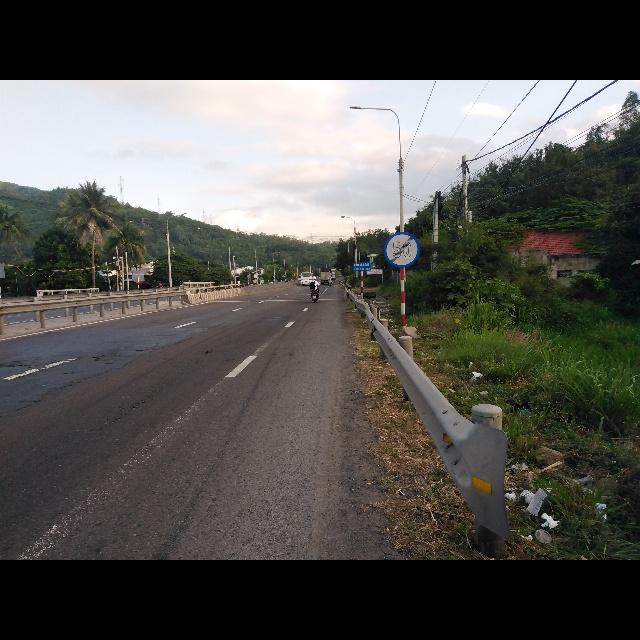Hết hạn chế tốc độ tối đa 50km/h: (382, 231, 420, 270)
